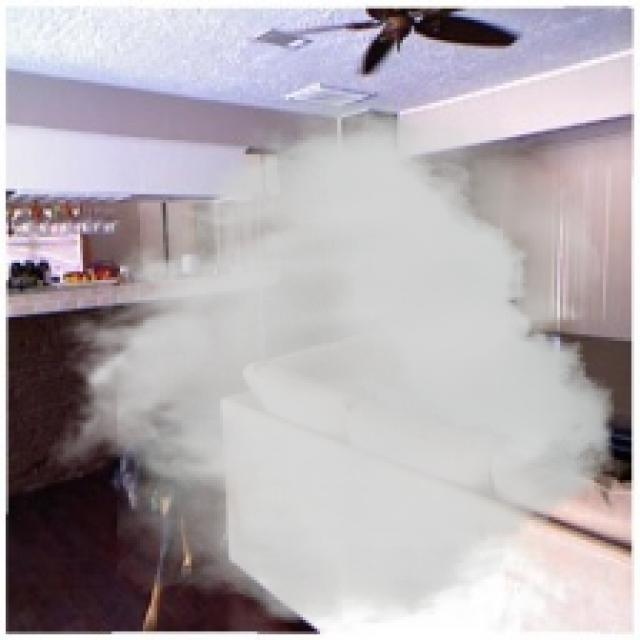smoke: (46, 100, 614, 631)
